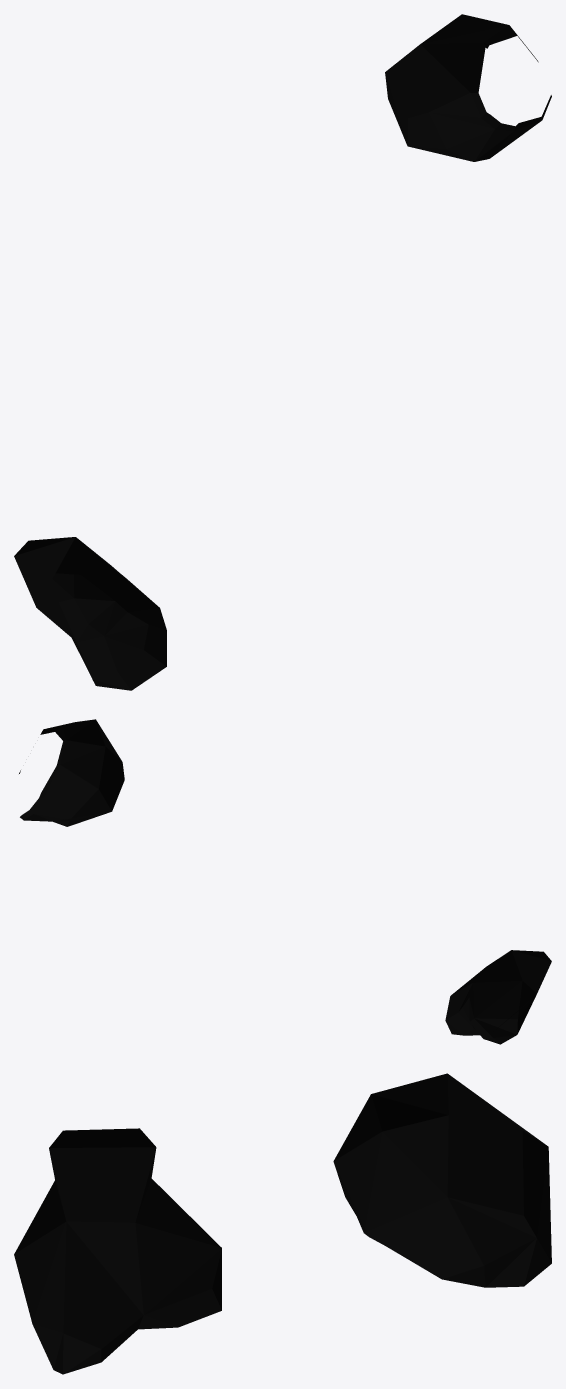
3 views of the same model, one above another, from view 1: azimuth 30°, elevation 25°; view 2: azimuth 150°, elevation 25°; view 3: azimuth 270°, elevation 25° (orthographic). The views are drawn at different scales.
Size of the model in its own units: 3.8 by 2.72 by 2.17.
Materials: 1 (1 with a texture image).
